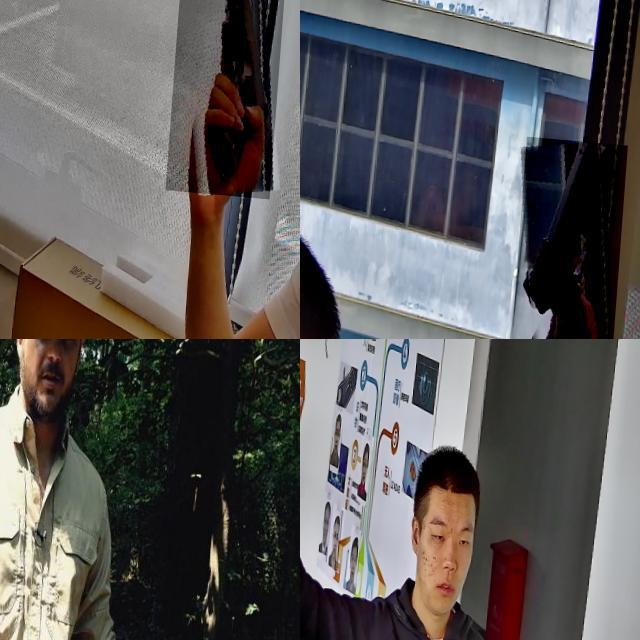gun-knife-thesis - v11 Yolov5 augmented: (517, 129, 632, 339), (171, 0, 291, 193), (300, 339, 331, 465)
